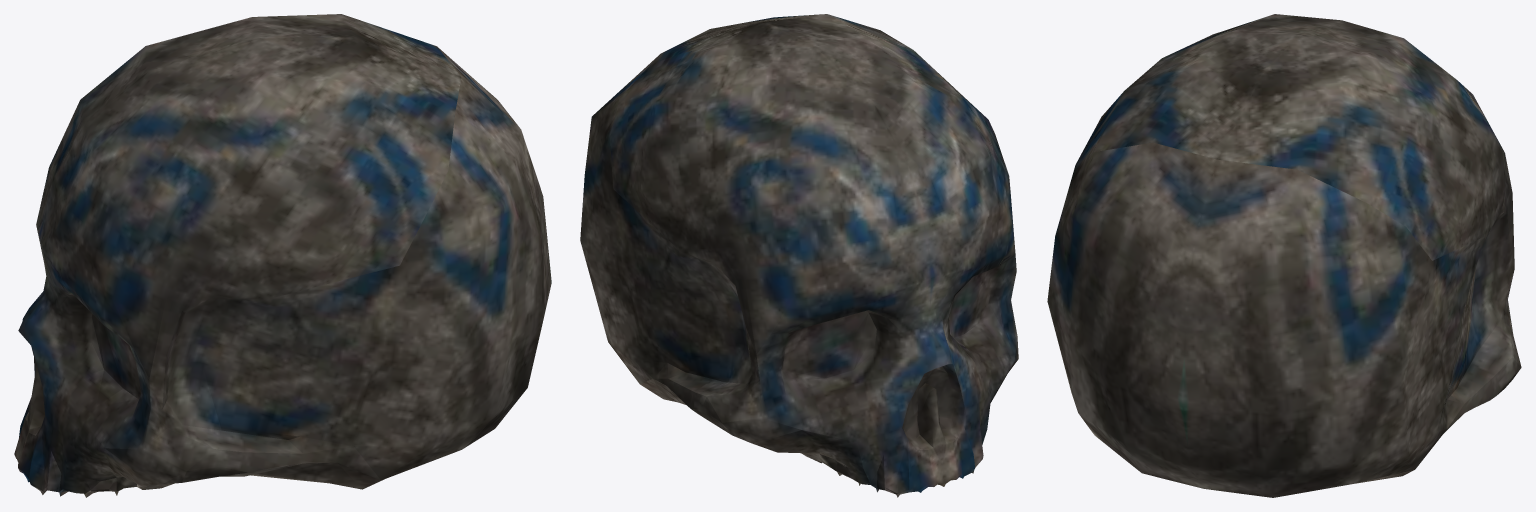
Rendered from o_mdl_env_propSkullBigC-transformed.glb.
3 views of the same model, side by side, from view 1: azimuth 30°, elevation 25°; view 2: azimuth 150°, elevation 25°; view 3: azimuth 270°, elevation 25° (orthographic). The views are drawn at different scales.
Parts seen in each view (by area): view 1: default; view 2: default; view 3: default.
Boxes of the visible parts, <box> form: default: <box>14,14,551,497</box>; default: <box>580,14,1018,497</box>; default: <box>1047,14,1521,497</box>.
Bounding box in the file's own units: 0.3056 × 0.2717 × 0.2816.
Materials: 1 (1 with a texture image).
